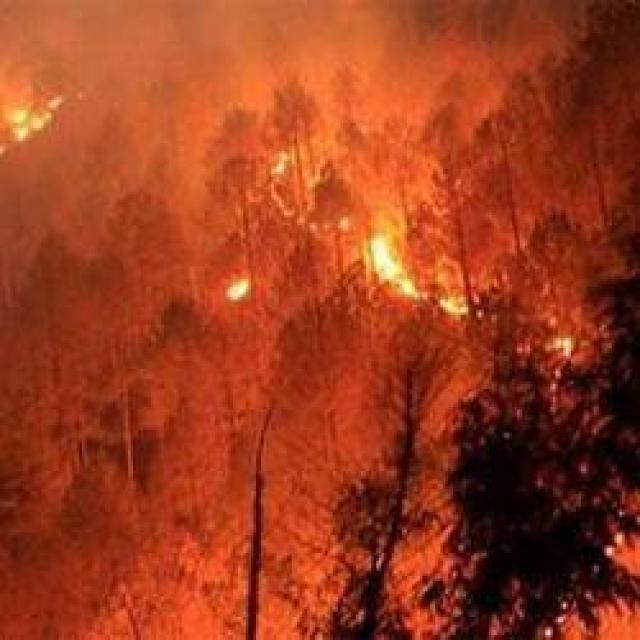Fire: (366, 228, 404, 284), (430, 288, 468, 314), (224, 269, 250, 303)
